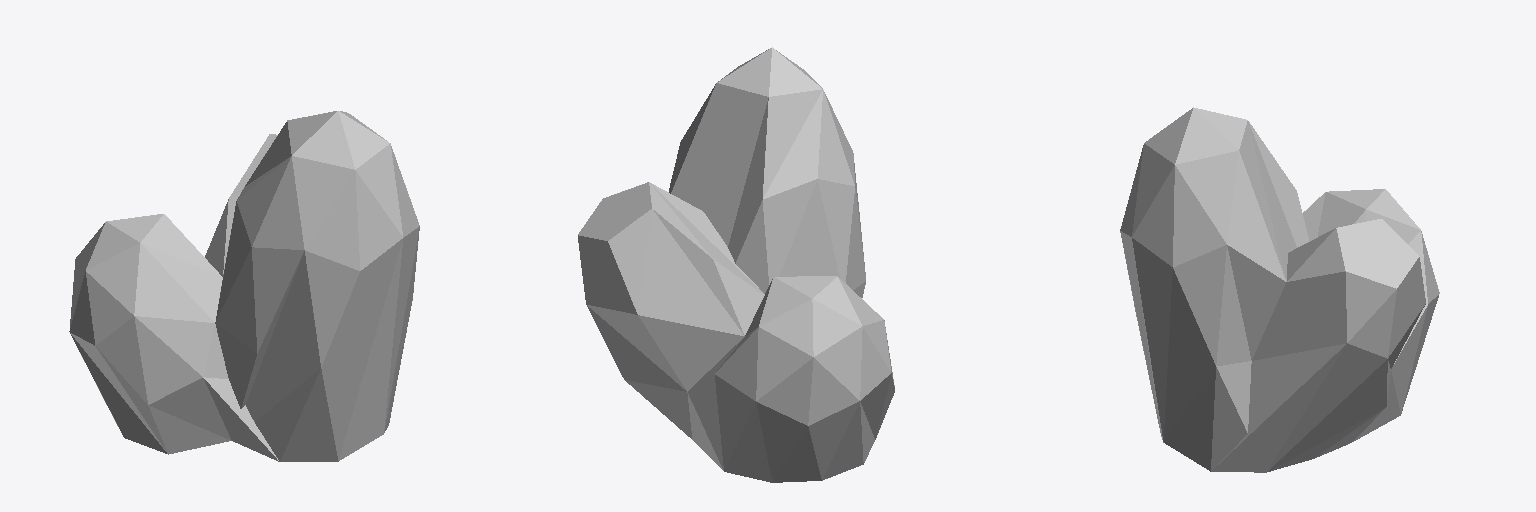
File: nest.obj
3 views of the same model, side by side, from view 1: azimuth 30°, elevation 25°; view 2: azimuth 150°, elevation 25°; view 3: azimuth 270°, elevation 25° (orthographic).
Visible parts, largest first — view 1: Icosphere.001; view 2: Icosphere.001; view 3: Icosphere.001.
Part boxes in pixels (left/top/right/bottom): Icosphere.001: left=69, top=111, right=419, bottom=461; Icosphere.001: left=578, top=47, right=894, bottom=482; Icosphere.001: left=1120, top=107, right=1439, bottom=472.
Size of the model in its own units: 1.81 by 2.04 by 1.76.